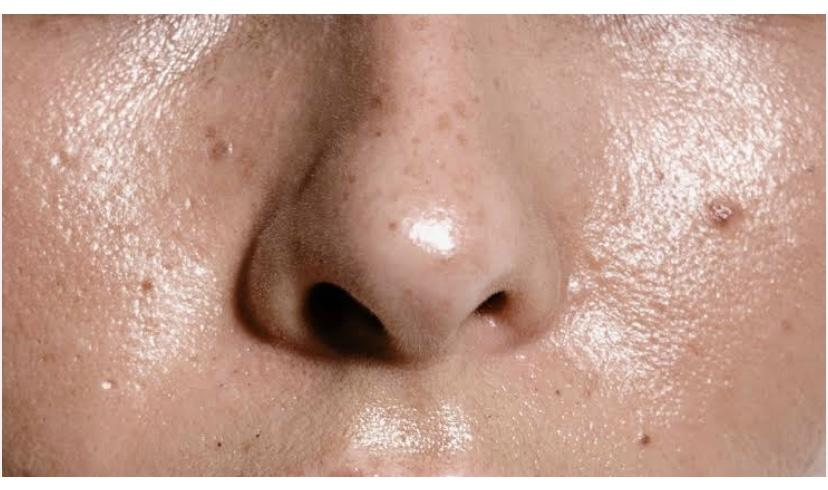Oily-Skin: (626, 101, 791, 338), (74, 82, 225, 312), (262, 363, 455, 476), (356, 106, 493, 260), (571, 53, 715, 130), (53, 43, 206, 89)
